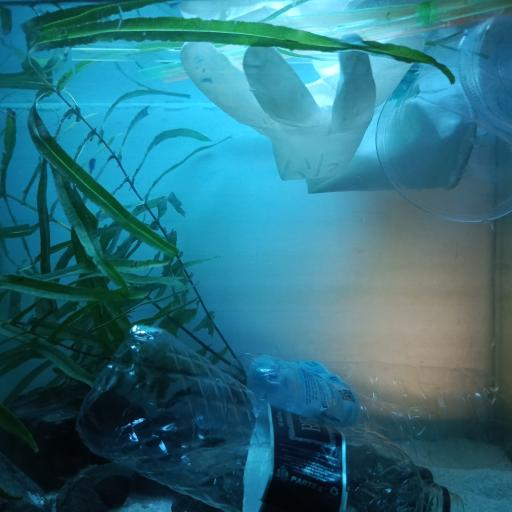glove: (181, 35, 485, 197)
plastic_bottle: (75, 320, 458, 512), (204, 353, 498, 469)
plastic_cup: (375, 21, 512, 224)
plastic_straw: (270, 0, 510, 26), (334, 17, 512, 41), (68, 46, 181, 63)
